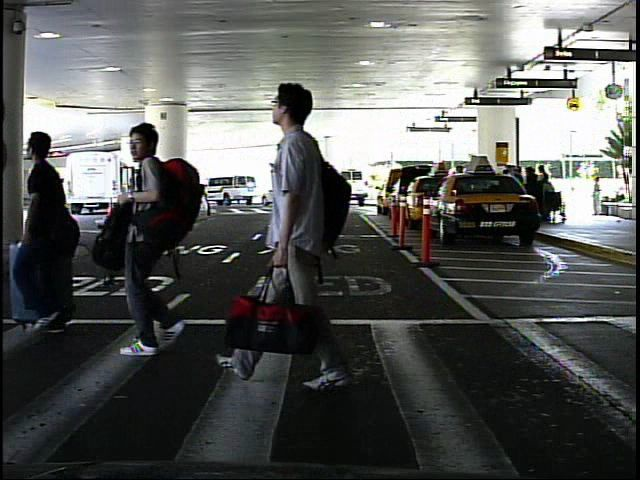person: (232, 65, 355, 394), (97, 112, 204, 362), (12, 115, 95, 355), (588, 174, 607, 219)
